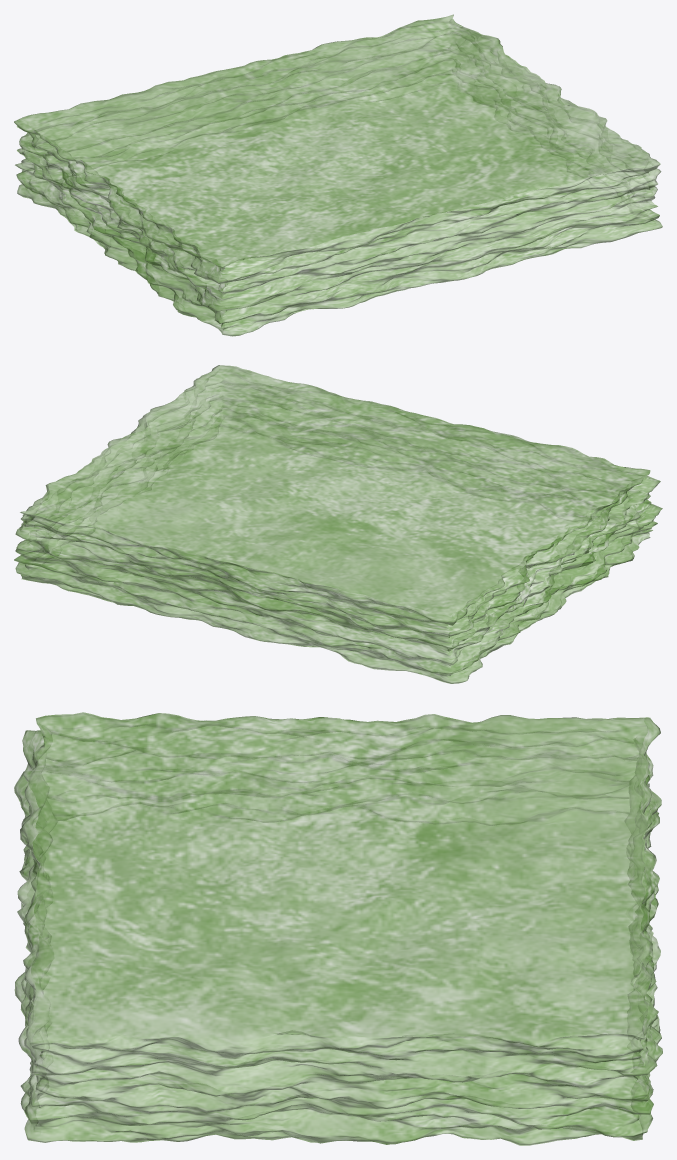
Rendered from aguaBloque.fbx.
3 renders of one model, top to bottom at view 1: azimuth 30°, elevation 25°; view 2: azimuth 150°, elevation 25°; view 3: azimuth 270°, elevation 25°, orthographic. The views are drawn at different scales.
Parts seen in each view (by area): view 1: Cube_4; view 2: Cube_4; view 3: Cube_4.
Boxes of the visible parts, x1=… form: Cube_4: x1=14, y1=14, x2=662, y2=336; Cube_4: x1=14, y1=365, x2=662, y2=683; Cube_4: x1=14, y1=712, x2=662, y2=1145.
Size of the model in its own units: 1468 by 219 by 1176.
1 material, 1 textured.
